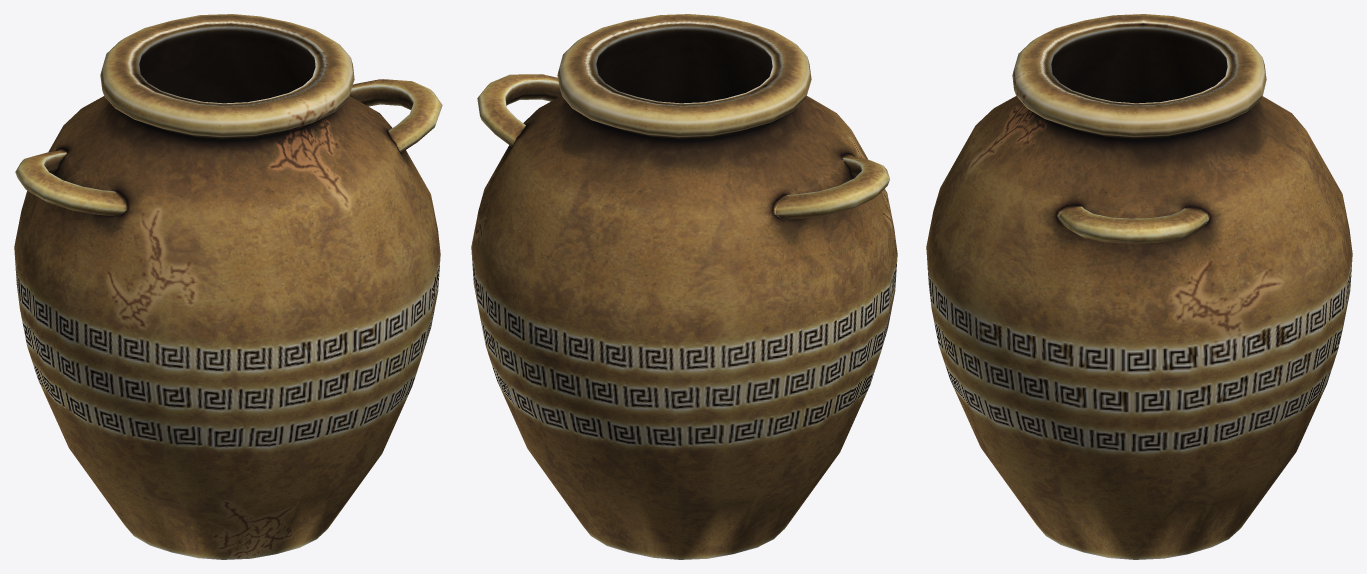
File: crock2.fbx
The picture shows the model from 3 angles, left to right: view 1: azimuth 30°, elevation 25°; view 2: azimuth 150°, elevation 25°; view 3: azimuth 270°, elevation 25°; orthographic projection.
Visible parts, largest first — view 1: crock2_LOD0; view 2: crock2_LOD0; view 3: crock2_LOD0.
Part boxes in pixels (box(x1,y1,x2,y2)): crock2_LOD0: box(14, 14, 442, 559); crock2_LOD0: box(471, 14, 897, 559); crock2_LOD0: box(926, 14, 1352, 559).
Size of what is drawn, in the model's own units: 0.57 by 0.6147 by 0.5249.
